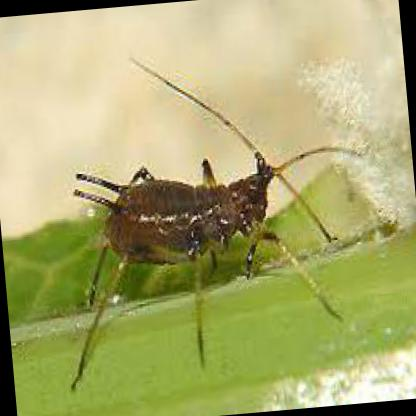uroleucon compositae: (74, 64, 362, 319)
